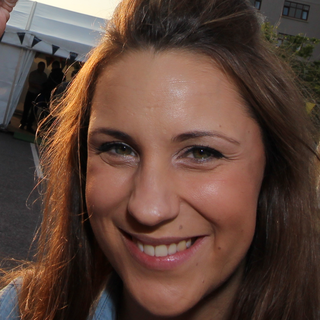eye: (174, 141, 229, 166), (94, 138, 140, 163)
